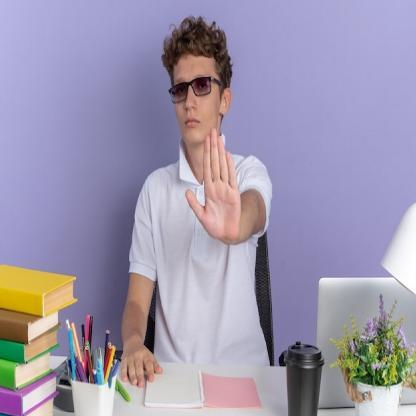stop: (184, 126, 250, 248)
